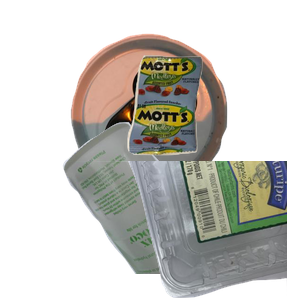glass: (60, 120, 300, 300)
metal: (68, 31, 288, 211)
plastic: (60, 161, 300, 300)
trash: (125, 53, 300, 201)
